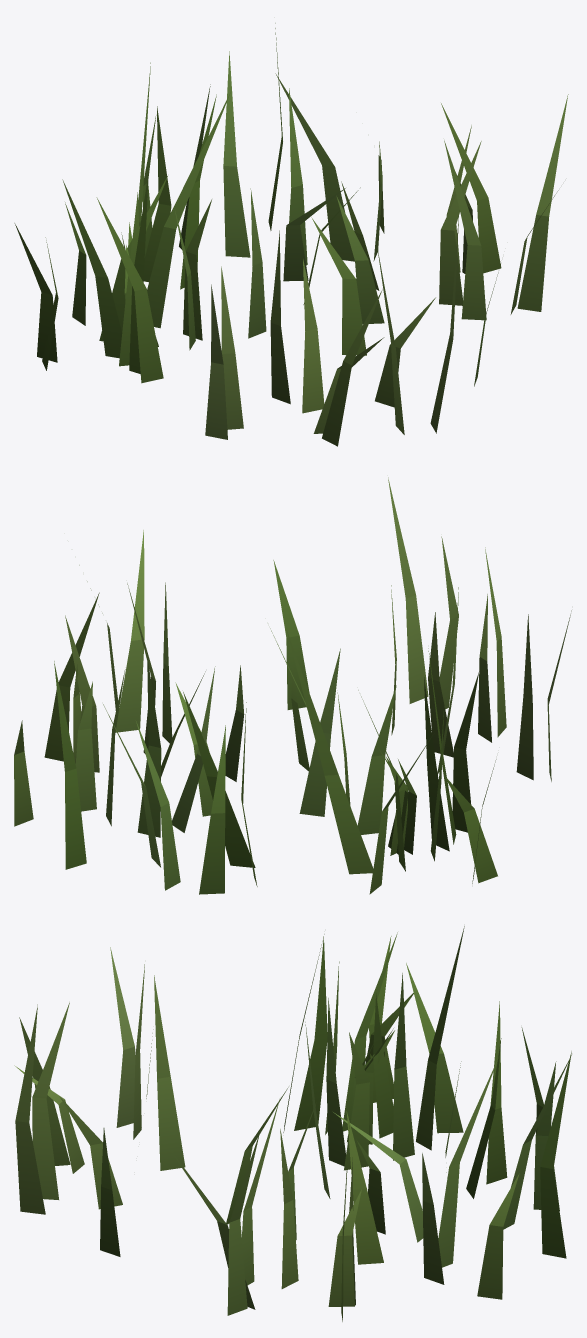
File: grass_meadow_b.glb
3 renders of one model, top to bottom at view 1: azimuth 30°, elevation 25°; view 2: azimuth 150°, elevation 25°; view 3: azimuth 270°, elevation 25°, orthographic. The views are drawn at different scales.
Visible parts, largest first — view 1: grass_meadow_b; view 2: grass_meadow_b; view 3: grass_meadow_b.
Boxes of the visible parts, <box> form: grass_meadow_b: <box>14,23,568,446</box>; grass_meadow_b: <box>14,477,571,894</box>; grass_meadow_b: <box>14,926,571,1321</box>.
Size of the model in its own units: 0.6775 by 0.313 by 0.6334.
